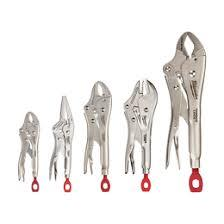pliers: (161, 30, 206, 193), (122, 78, 158, 192), (81, 79, 112, 191), (47, 94, 75, 192), (16, 110, 39, 192)
